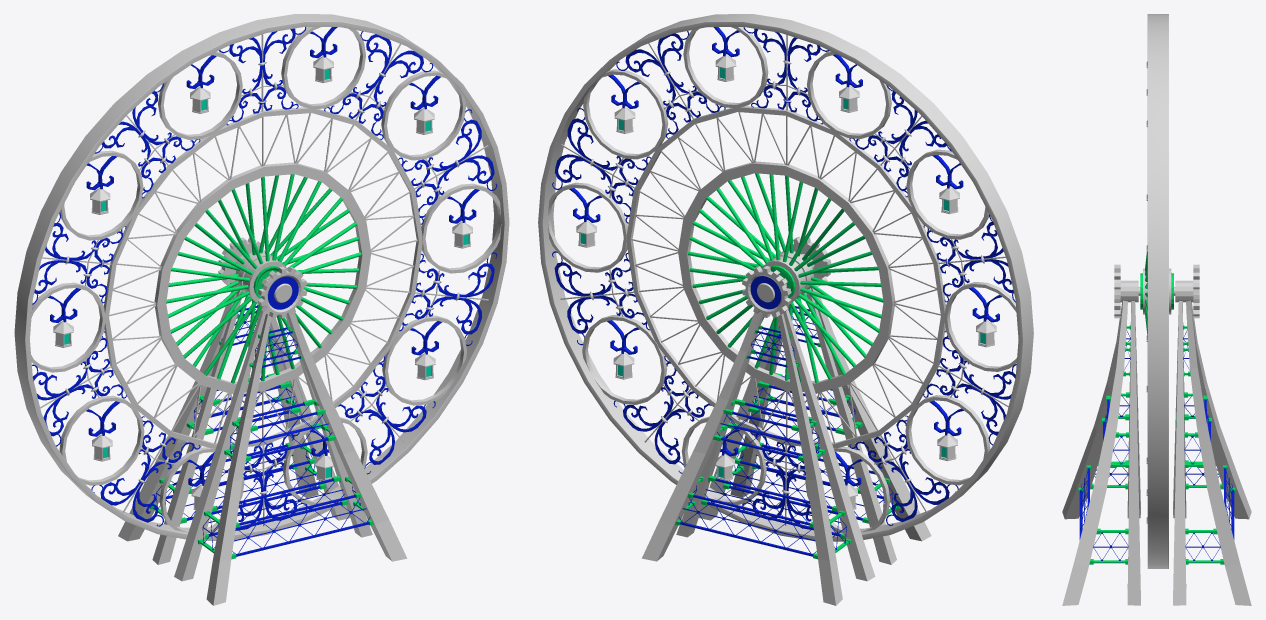
Rendered from large_wheel.fbx.
3 views of the same model, side by side, from view 1: azimuth 30°, elevation 25°; view 2: azimuth 150°, elevation 25°; view 3: azimuth 270°, elevation 25° (orthographic).
Visible parts, largest first — view 1: large_id; view 2: large_id; view 3: large_id.
Part boxes in pixels (x1,y1,x2,y2): large_id: (14,14,509,605); large_id: (538,14,1033,605); large_id: (1062,14,1251,605).
Size of the model in its own units: 152 by 157 by 52.01.
